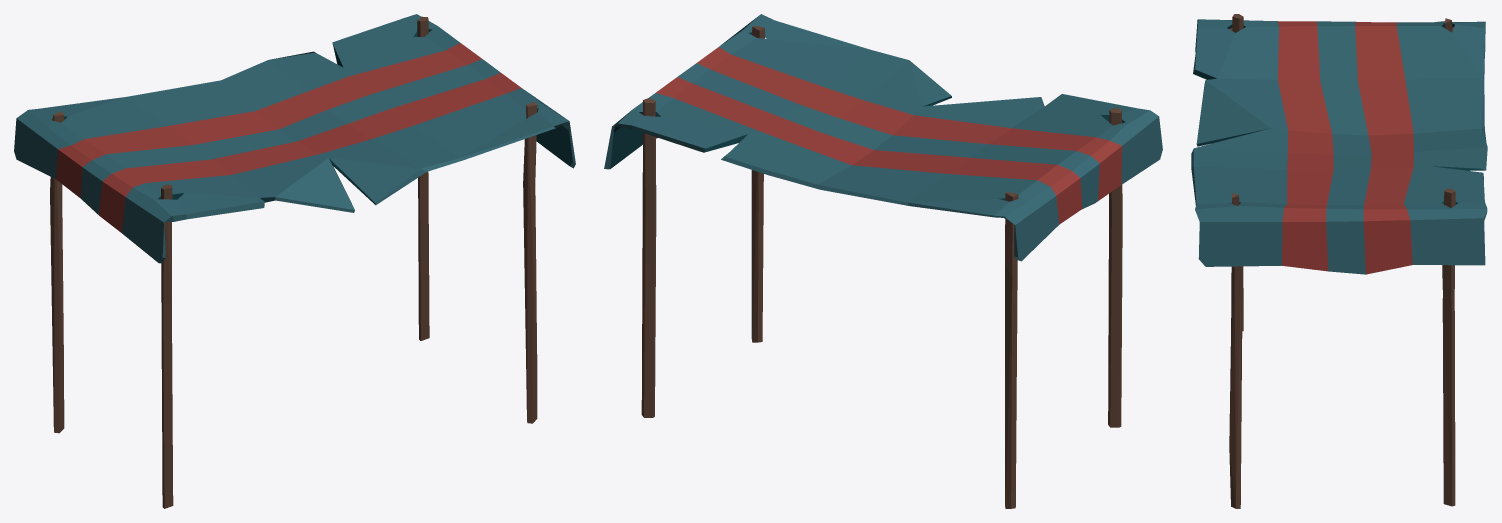
Rendered from Tent_01.glb.
The picture shows the model from 3 angles, left to right: view 1: azimuth 30°, elevation 25°; view 2: azimuth 150°, elevation 25°; view 3: azimuth 270°, elevation 25°; orthographic projection.
Visible parts, largest first — view 1: Tent_01; view 2: Tent_01; view 3: Tent_01.
Part boxes in pixels (x1=…): Tent_01: x1=14, y1=14, x2=575, y2=508; Tent_01: x1=604, y1=14, x2=1162, y2=508; Tent_01: x1=1191, y1=14, x2=1487, y2=508.
Size of what is drawn, in the model's own units: 3 by 2.2 by 1.86.
Materials: 1 (1 with a texture image).
